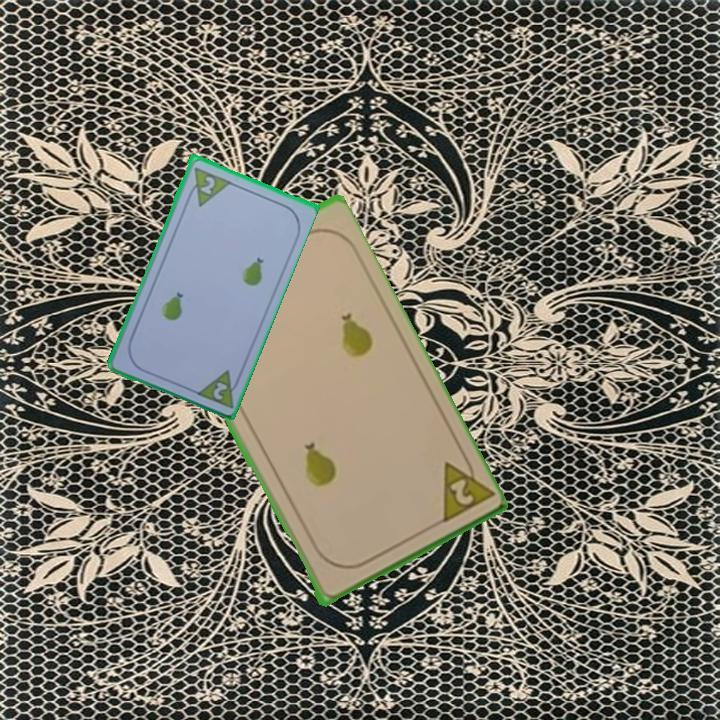2p: (434, 449, 494, 527), (191, 365, 244, 411), (196, 172, 218, 197)
